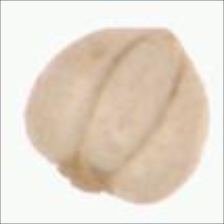L5: (75, 26, 188, 175), (54, 153, 115, 198)
L6: (18, 24, 212, 209)
